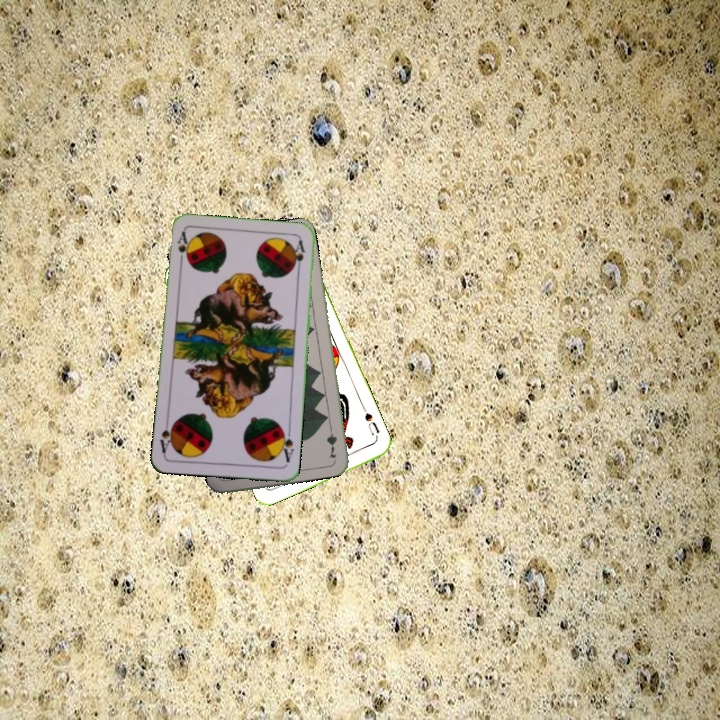G7: (325, 419, 340, 460)
SA: (276, 425, 296, 465), (174, 228, 191, 268)
SU: (361, 409, 382, 443)
